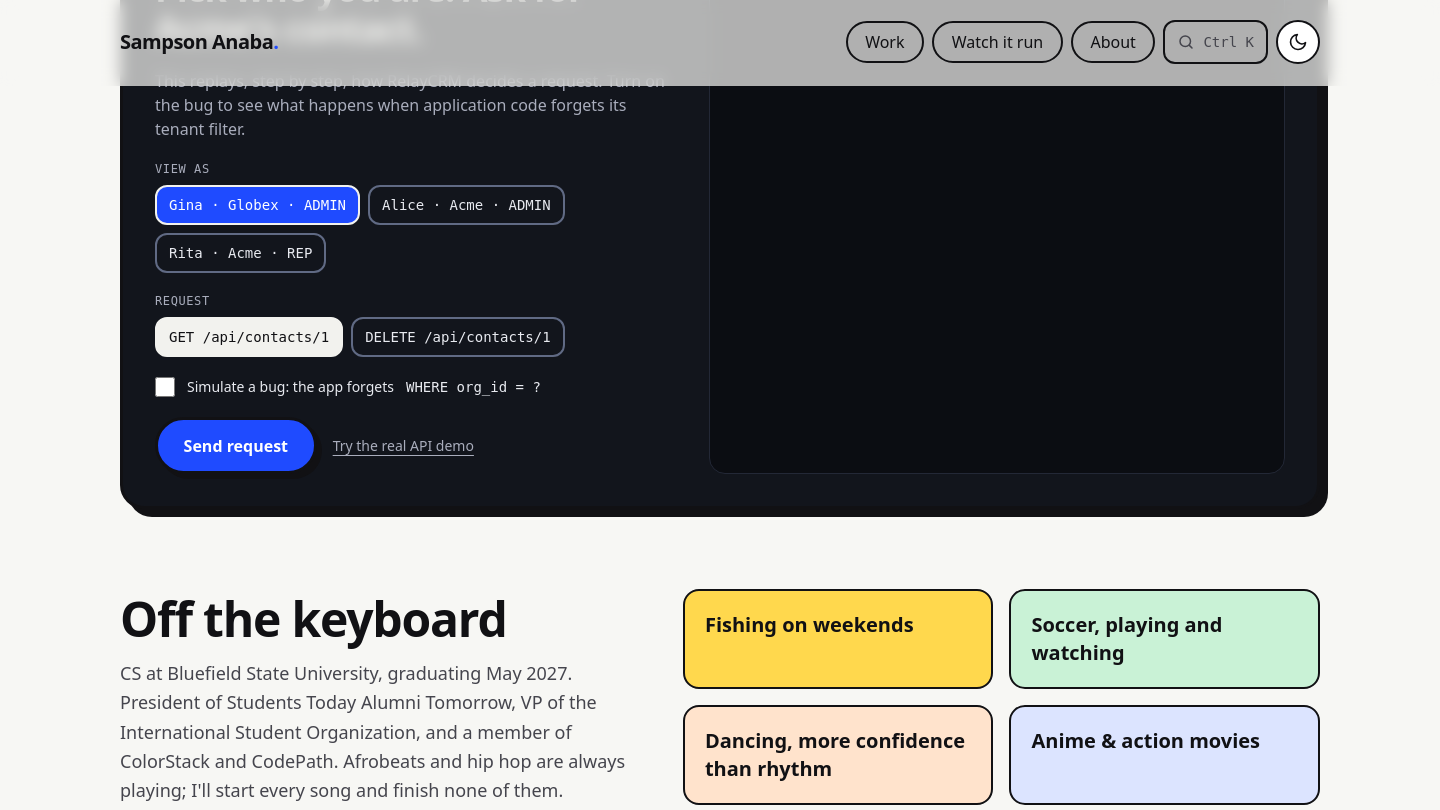
Test: RequestDemo › reveals each check and ends in 404 for another tenant
(page scrolled)
Click the button "Send request" at (236, 446), box [155,417,317,474]
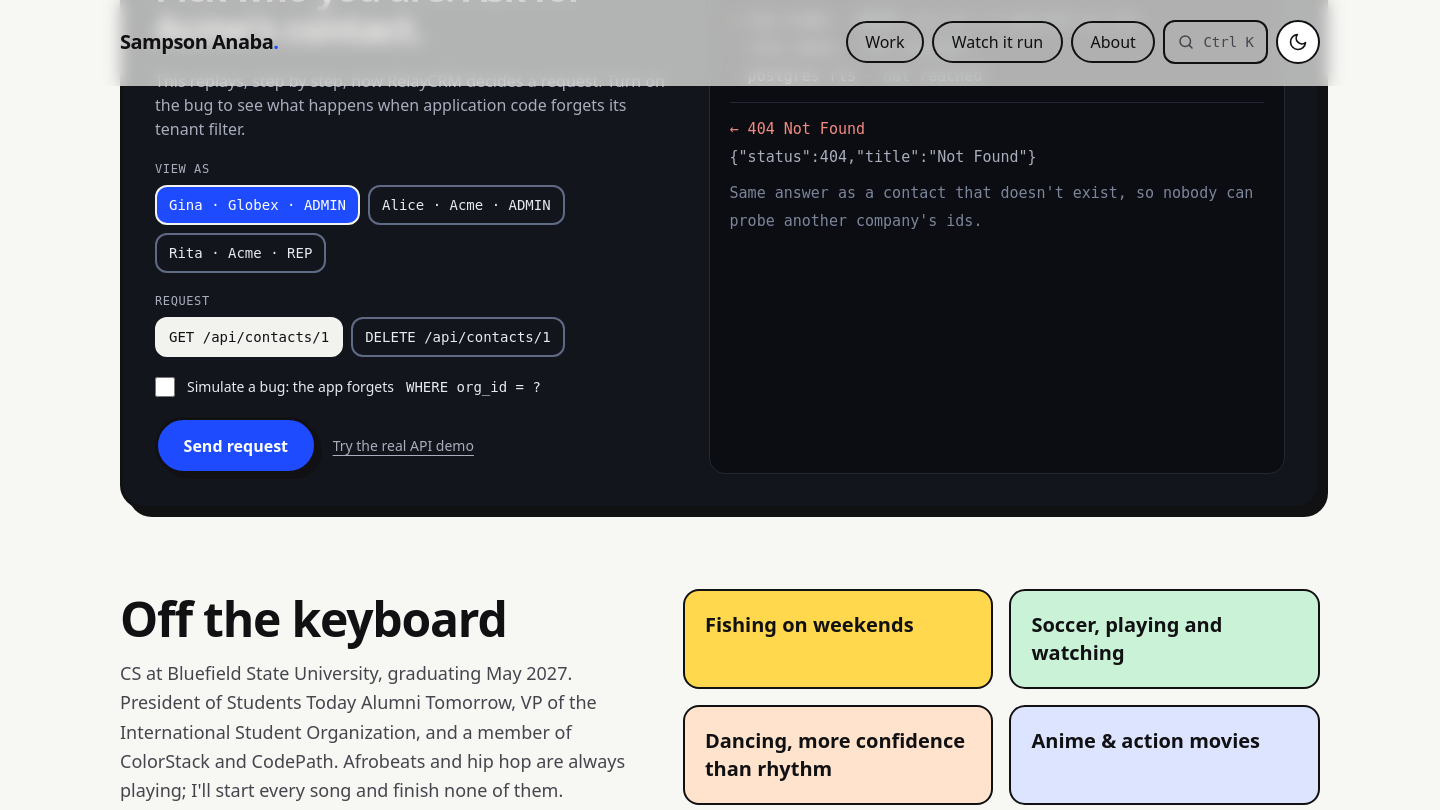
Expected: the text "· WHERE org_id = 2 matched no row" is shown, [838,11,1136,29]
Result: the text "← 404 Not Found" is shown at [730,120,865,138]
